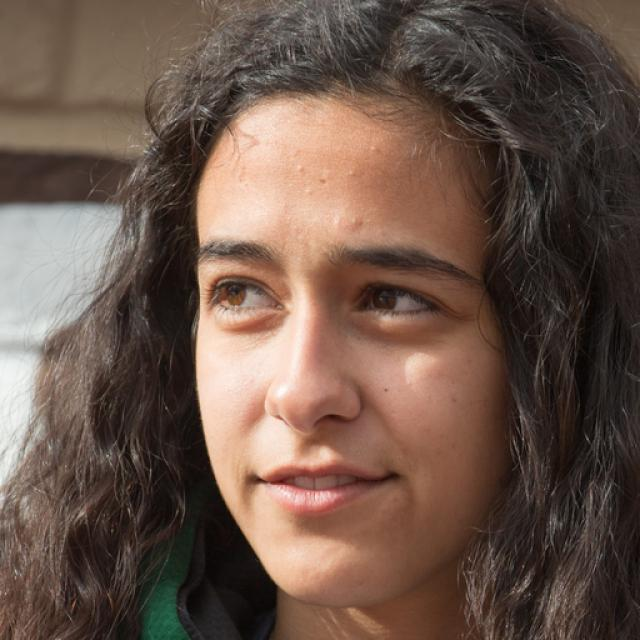Acne: (282, 149, 321, 182), (358, 131, 388, 166)
